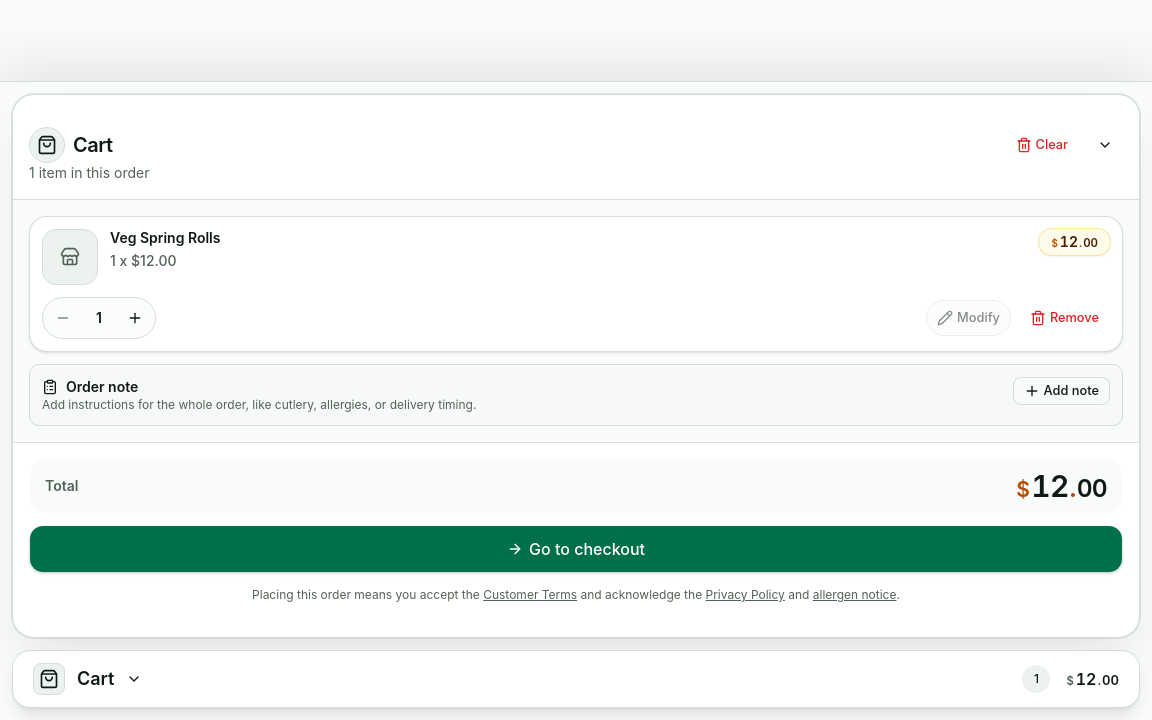
the Clear button › clears nothing when the confirmation is declined
This screenshot has width=1152, height=720.
Click the button "Clear" at (1042, 145), box [1004, 131, 1079, 159]
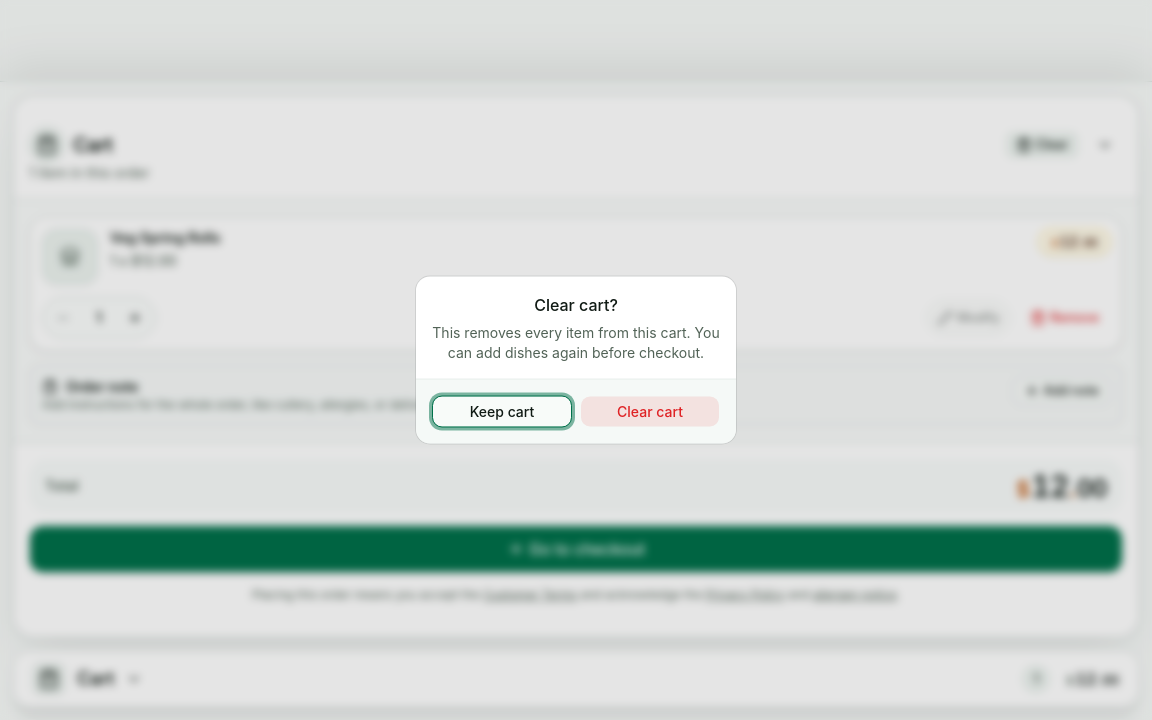
Click the button "Keep cart" at (502, 412), box [432, 396, 572, 428]
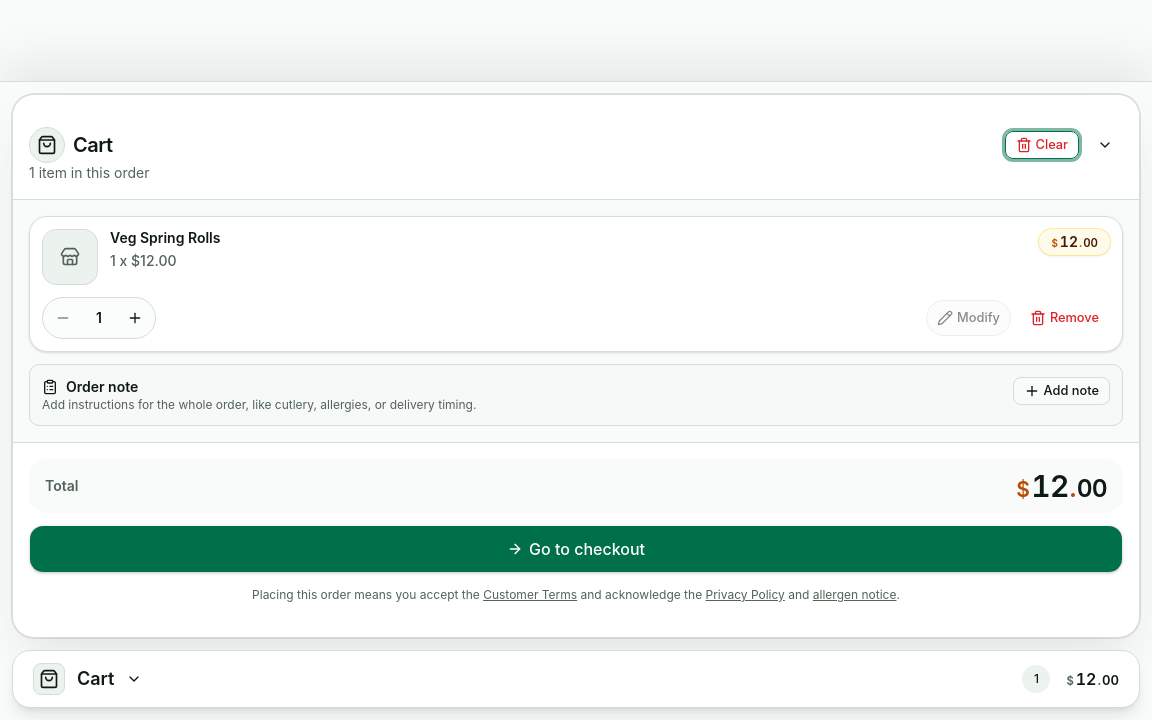
Now the dialog is gone
